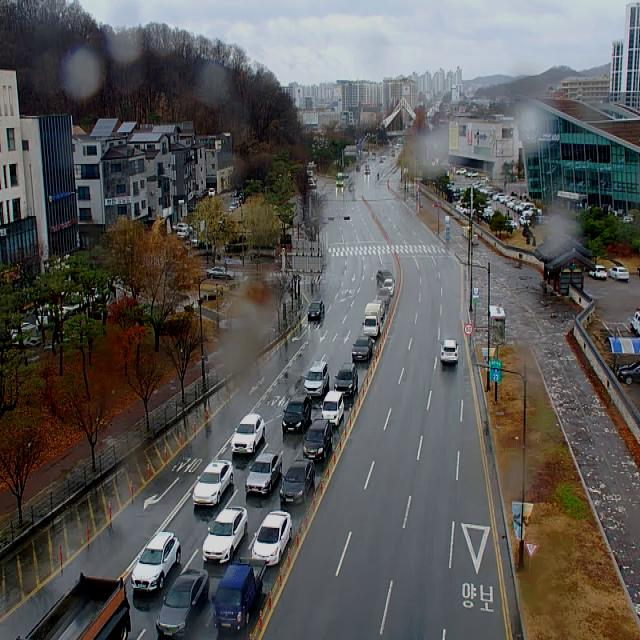Bus: (336, 173, 344, 185)
Car: (156, 569, 209, 640), (132, 532, 182, 591), (203, 506, 248, 564), (252, 510, 292, 564), (193, 460, 233, 506), (280, 458, 314, 506), (245, 452, 282, 494), (231, 414, 265, 454), (303, 418, 332, 461), (282, 395, 311, 433), (304, 362, 328, 396), (335, 363, 358, 396), (616, 362, 640, 384), (352, 336, 372, 361), (440, 340, 458, 364), (206, 266, 235, 278), (608, 267, 629, 281), (308, 302, 324, 320), (588, 266, 607, 280), (376, 270, 395, 284), (373, 299, 385, 318), (383, 278, 394, 295), (378, 288, 389, 304), (177, 226, 189, 238), (209, 187, 215, 197)
Truck: (15, 572, 132, 640), (212, 558, 267, 631), (320, 392, 344, 426), (362, 303, 381, 336)
